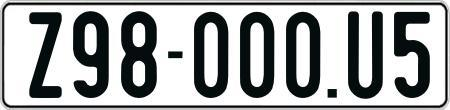0: (191, 10, 229, 102), (284, 9, 322, 101), (239, 11, 275, 99)
5: (394, 12, 432, 103)
8: (120, 10, 161, 100)
9: (72, 10, 111, 101)
U: (345, 9, 382, 102)
Z: (27, 10, 62, 100)
